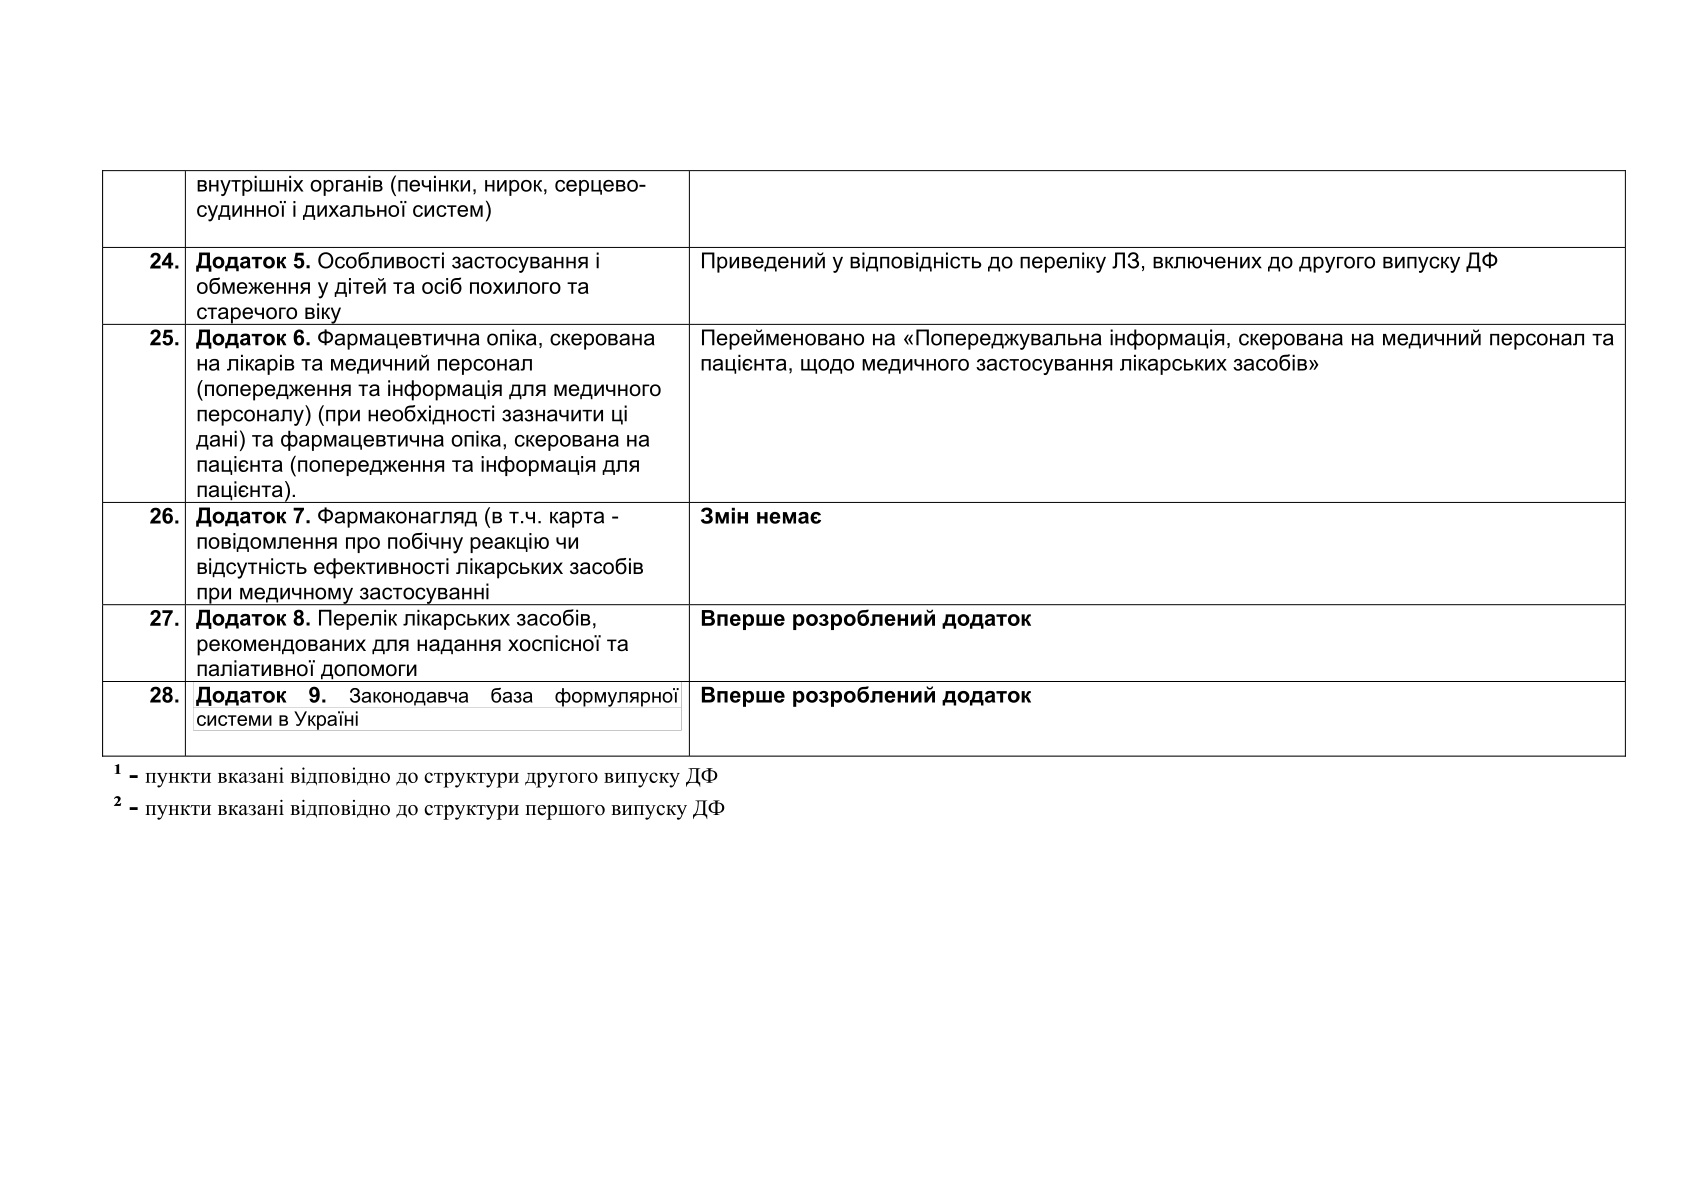full_lined: (102, 169, 1627, 758)
